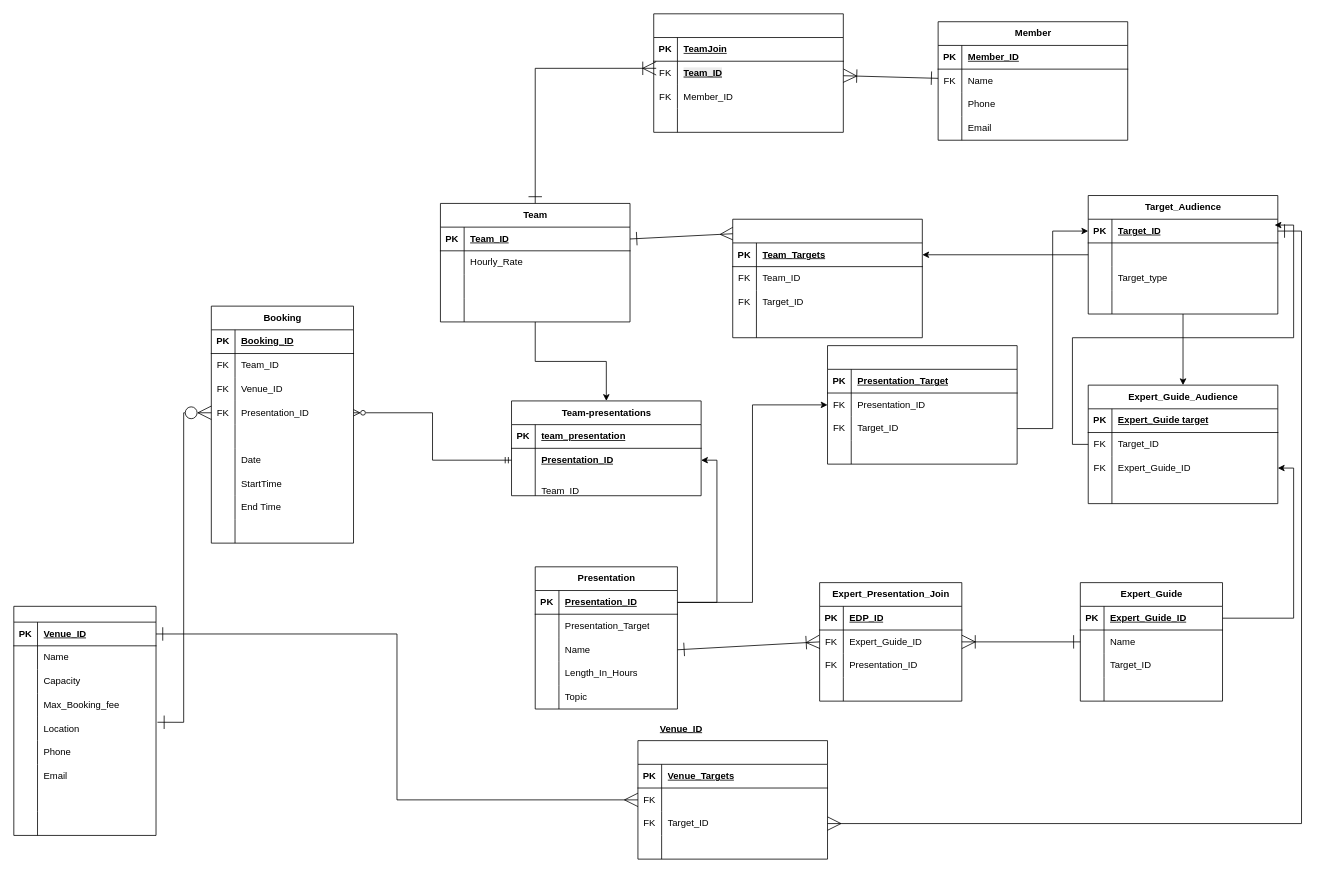
Some shapes in this 1330 by 873 pixel diagram are drawn without their labels. The shapes that lost their labels are listed below. From the top down, each one's box as (x1, y1, x2, y2) in pixels, then its label:
(653, 13, 843, 132): Team_Has_Member
(732, 218, 922, 338): Team_Audiences
(827, 345, 1017, 464): Presentation_audience
(637, 740, 828, 859): venue_audience
